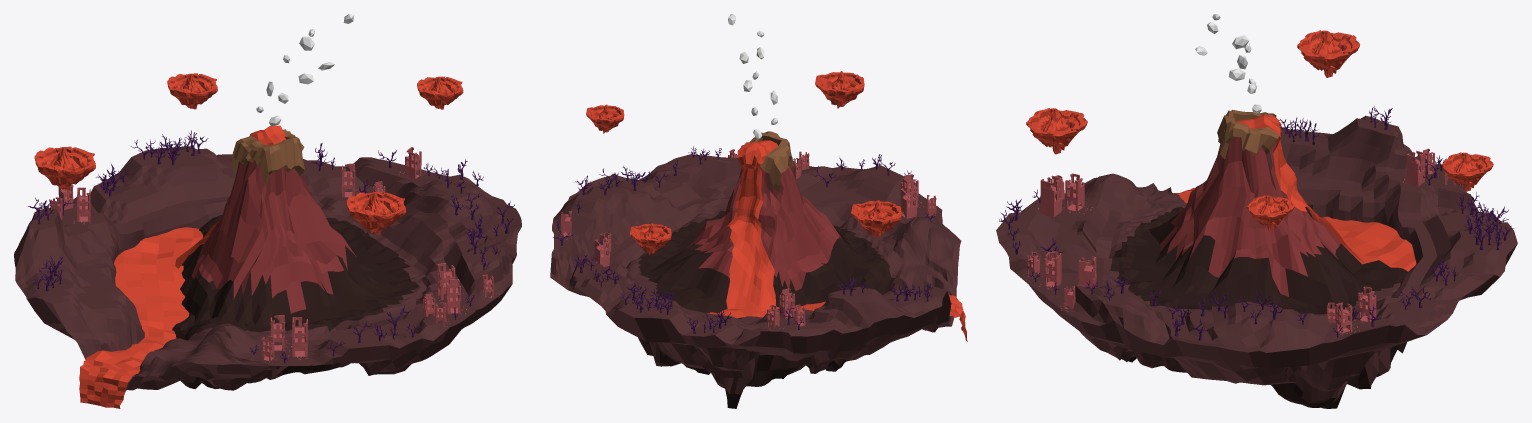
File: cenario lava v02_unity.fbx
3 renders of one model, left to right at view 1: azimuth 30°, elevation 25°; view 2: azimuth 150°, elevation 25°; view 3: azimuth 270°, elevation 25°, orthographic. The views are drawn at different scales.
Visible parts, largest first — view 1: ilha principal 1, ilha pequena 2, ilha pequena 1, ilha pequena 2.001, ilha pequena 1.001, predio principal 1.005, predio principal 1.003, predio principal 1.001, predio principal 2.005, predio principal 2.004; view 2: ilha principal 1, ilha pequena 2, ilha pequena 1, ilha pequena 2.001, ilha pequena 1.001, predio principal 2.004, predio principal 1.001, predio principal 2.006; view 3: ilha principal 1, ilha pequena 2, ilha pequena 1, ilha pequena 2.001, ilha pequena 1.001, predio principal 1.005, predio principal 2.004, predio principal 1.001, predio principal 1.003, predio principal 2.006, predio principal 2.001, predio principal 2.005.
Part boxes in pixels (box(x1,y1,x2,y2)): ilha principal 1: box(14, 125, 521, 408); ilha pequena 2: box(34, 146, 95, 190); ilha pequena 1: box(346, 192, 405, 234); ilha pequena 2.001: box(167, 73, 217, 109); ilha pequena 1.001: box(417, 76, 463, 109); predio principal 1.005: box(288, 317, 307, 360); predio principal 1.003: box(445, 279, 466, 314); predio principal 1.001: box(73, 187, 90, 224); predio principal 2.005: box(398, 147, 425, 179); predio principal 2.004: box(270, 315, 291, 351); ilha principal 1: box(550, 131, 967, 408); ilha pequena 2: box(851, 200, 901, 238); ilha pequena 1: box(815, 71, 864, 108); ilha pequena 2.001: box(629, 223, 671, 254); ilha pequena 1.001: box(586, 104, 624, 133); predio principal 2.004: box(900, 188, 917, 220); predio principal 1.001: box(779, 288, 794, 318); predio principal 2.006: box(594, 239, 609, 267); ilha principal 1: box(996, 110, 1517, 408); ilha pequena 2: box(1297, 30, 1359, 77); ilha pequena 1: box(1026, 108, 1087, 154); ilha pequena 2.001: box(1441, 152, 1493, 191); ilha pequena 1.001: box(1247, 195, 1294, 231); predio principal 1.005: box(1037, 175, 1062, 216); predio principal 2.004: box(1062, 173, 1092, 214); predio principal 1.001: box(1402, 150, 1425, 186); predio principal 1.003: box(1039, 251, 1061, 289); predio principal 2.006: box(1354, 286, 1376, 322); predio principal 2.001: box(1072, 256, 1096, 289); predio principal 2.005: box(1335, 302, 1359, 335).
Bounding box in the file's own units: 37004 × 28684 × 36137.
